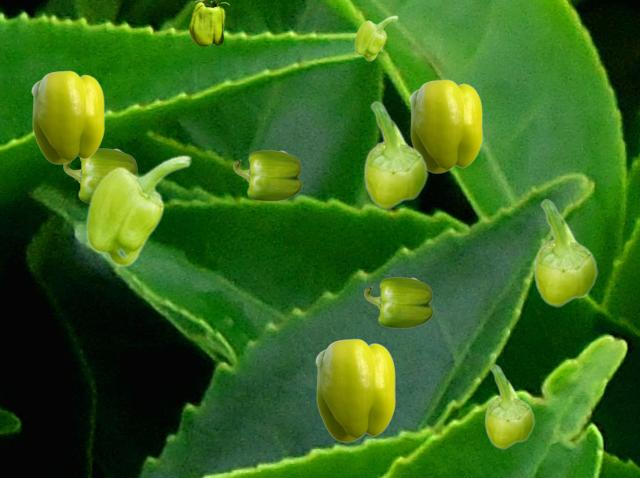bell_pepper: (85, 154, 191, 266), (315, 338, 394, 441), (363, 101, 427, 208), (533, 199, 597, 306), (409, 79, 481, 172), (31, 70, 103, 163), (484, 364, 534, 448), (63, 148, 137, 203), (233, 150, 301, 200), (364, 277, 432, 327), (354, 15, 397, 60), (189, 0, 228, 45)
